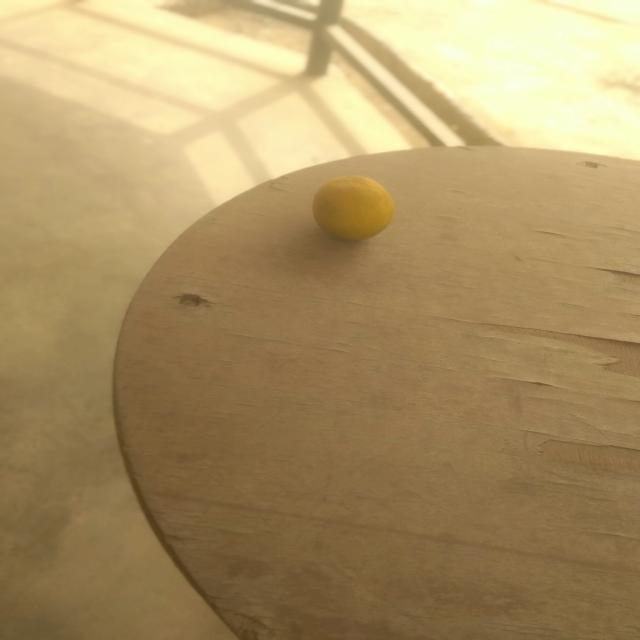Ripe orange: (266, 166, 458, 272)
